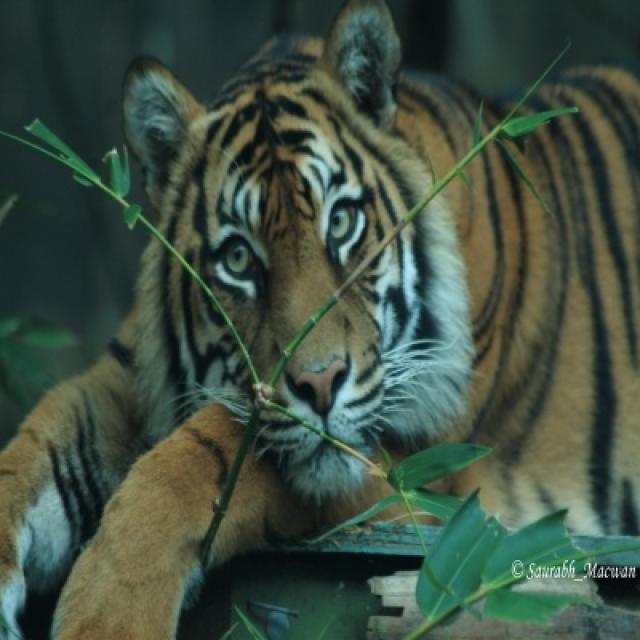Tiger: (4, 3, 637, 635)
